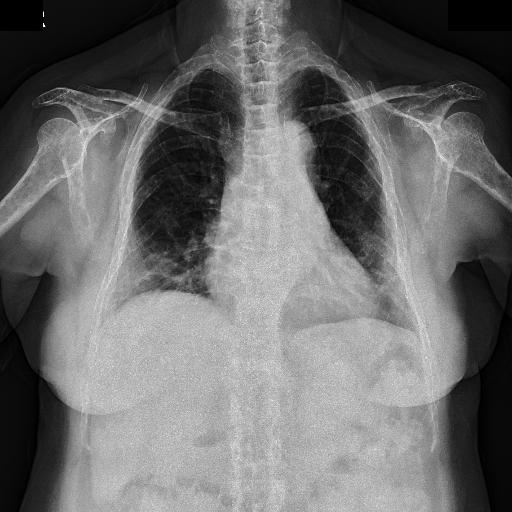Aortic enlargement: (244, 93, 294, 150)
Cardiomegaly: (116, 215, 292, 288)
Pulmonary fibrosis: (109, 254, 161, 276)
